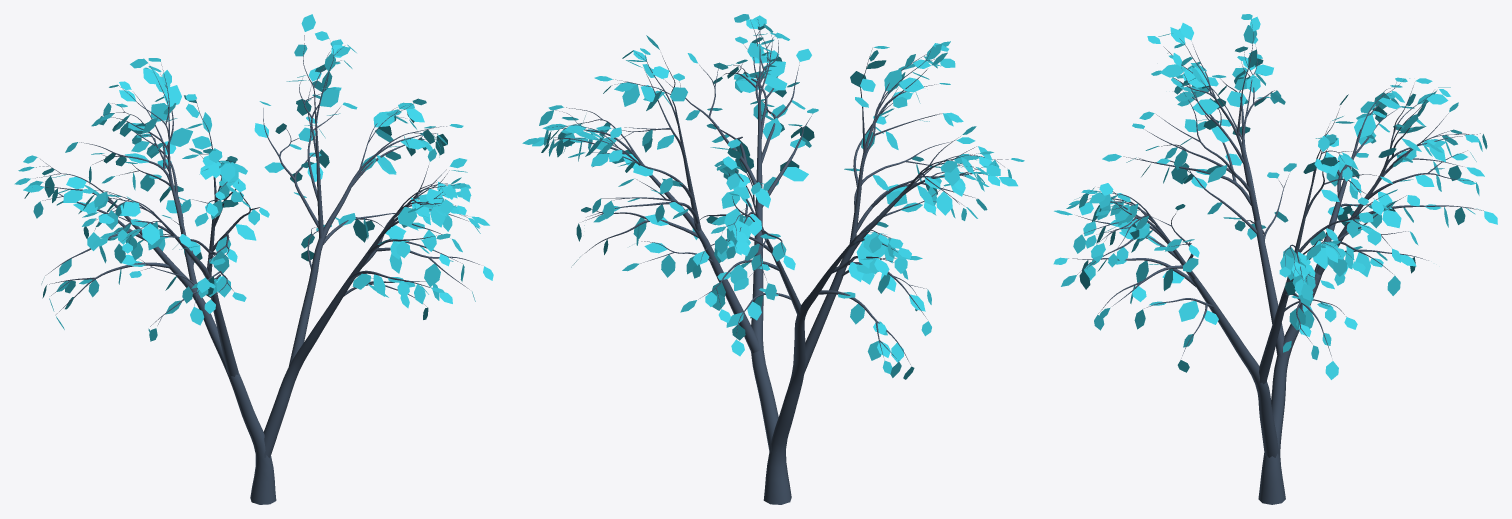
File: tree3.fbx
3 views of the same model, side by side, from view 1: azimuth 30°, elevation 25°; view 2: azimuth 150°, elevation 25°; view 3: azimuth 270°, elevation 25° (orthographic). The views are drawn at different scales.
Parts seen in each view (by area): view 1: leaves.002, tree.002; view 2: leaves.002, tree.002; view 3: leaves.002, tree.002.
Boxes of the visible parts, x1,y1,x2,y2 form: leaves.002: (14, 14, 493, 341); tree.002: (35, 35, 479, 504); leaves.002: (522, 14, 1024, 379); tree.002: (545, 20, 1008, 504); leaves.002: (1053, 14, 1497, 379); tree.002: (1068, 20, 1483, 504).
Bounding box in the file's own units: 1834 × 1896 × 1712.
